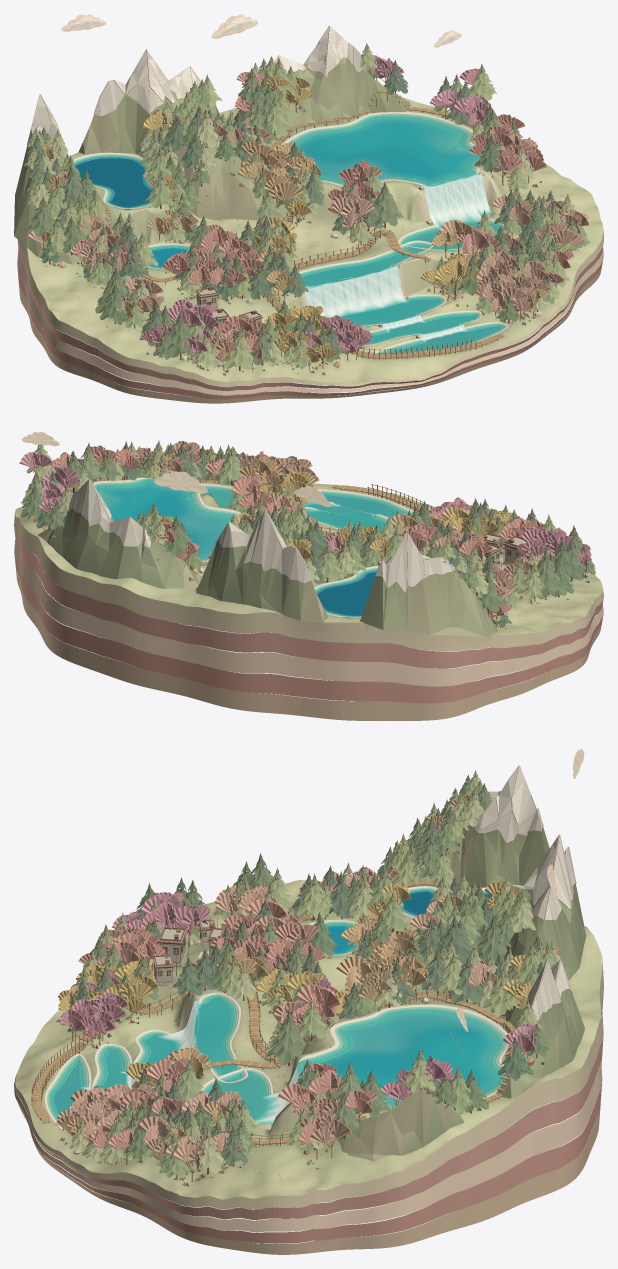
File: jiuzhai-paper-model.glb
3 views of the same model, one above another, from view 1: azimuth 30°, elevation 25°; view 2: azimuth 150°, elevation 25°; view 3: azimuth 270°, elevation 25° (orthographic). The views are drawn at different scales.
Parts seen in each view (by area): view 1: layered-firs-and-coral-fan-groves, one-continuous-folded-valley, five-scalloped-paper-strata, five-connected-alpine-paper-massifs, water-wuhua, layered-mineral-shores-and-submerged-timber, separate-ivory-snow-papers, village-and-shore-boardwalks, waterfall-nuorilang, waterfall-pearl, water-changhai, paper-meadow-and-understory (+4 smaller); view 2: five-scalloped-paper-strata, layered-firs-and-coral-fan-groves, five-connected-alpine-paper-massifs, one-continuous-folded-valley, separate-ivory-snow-papers, water-wuhua, layered-mineral-shores-and-submerged-timber, village-and-shore-boardwalks, water-changhai, water-shuzheng-lower, cloud-2-paper-layer-0, water-nuorilang-head (+2 smaller); view 3: layered-firs-and-coral-fan-groves, five-scalloped-paper-strata, one-continuous-folded-valley, five-connected-alpine-paper-massifs, layered-mineral-shores-and-submerged-timber, water-wuhua, separate-ivory-snow-papers, village-and-shore-boardwalks, water-nuorilang-head, paper-meadow-and-understory, water-mirror, waterfall-nuorilang (+2 smaller).
Part boxes in pixels (x1=…): layered-firs-and-coral-fan-groves: x1=24, y1=43, x2=589, y2=372; one-continuous-folded-valley: x1=27, y1=95, x2=602, y2=383; five-scalloped-paper-strata: x1=17, y1=228, x2=603, y2=403; five-connected-alpine-paper-massifs: x1=14, y1=57, x2=500, y2=264; water-wuhua: x1=296, y1=118, x2=477, y2=186; layered-mineral-shores-and-submerged-timber: x1=72, y1=112, x2=508, y2=355; separate-ivory-snow-papers: x1=27, y1=25, x2=362, y2=154; village-and-shore-boardwalks: x1=102, y1=90, x2=525, y2=359; waterfall-nuorilang: x1=304, y1=263, x2=407, y2=317; waterfall-pearl: x1=411, y1=173, x2=492, y2=229; water-changhai: x1=75, y1=158, x2=152, y2=209; paper-meadow-and-understory: x1=35, y1=81, x2=586, y2=375; five-scalloped-paper-strata: x1=14, y1=513, x2=603, y2=720; layered-firs-and-coral-fan-groves: x1=19, y1=440, x2=595, y2=627; five-connected-alpine-paper-massifs: x1=28, y1=476, x2=497, y2=637; one-continuous-folded-valley: x1=15, y1=477, x2=602, y2=635; separate-ivory-snow-papers: x1=68, y1=479, x2=454, y2=592; water-wuhua: x1=99, y1=479, x2=230, y2=557; layered-mineral-shores-and-submerged-timber: x1=63, y1=478, x2=415, y2=617; village-and-shore-boardwalks: x1=42, y1=475, x2=526, y2=569; water-changhai: x1=317, y1=571, x2=376, y2=618; water-shuzheng-lower: x1=324, y1=495, x2=402, y2=516; cloud-2-paper-layer-0: x1=154, y1=471, x2=208, y2=493; water-nuorilang-head: x1=307, y1=511, x2=384, y2=530; layered-firs-and-coral-fan-groves: x1=56, y1=770, x2=563, y2=1182; five-scalloped-paper-strata: x1=14, y1=880, x2=603, y2=1254; one-continuous-folded-valley: x1=15, y1=880, x2=602, y2=1199; five-connected-alpine-paper-massifs: x1=336, y1=824, x2=586, y2=1161; layered-mineral-shores-and-submerged-timber: x1=45, y1=885, x2=522, y2=1131; water-wuhua: x1=297, y1=1012, x2=499, y2=1103; separate-ivory-snow-papers: x1=474, y1=765, x2=576, y2=1024; village-and-shore-boardwalks: x1=31, y1=881, x2=515, y2=1146; water-nuorilang-head: x1=194, y1=997, x2=235, y2=1083; paper-meadow-and-understory: x1=49, y1=833, x2=545, y2=1186; water-mirror: x1=211, y1=1073, x2=267, y2=1124; waterfall-nuorilang: x1=157, y1=1000, x2=211, y2=1076.
Bounding box in the file's own units: 28.72 × 11.89 × 22.81.
